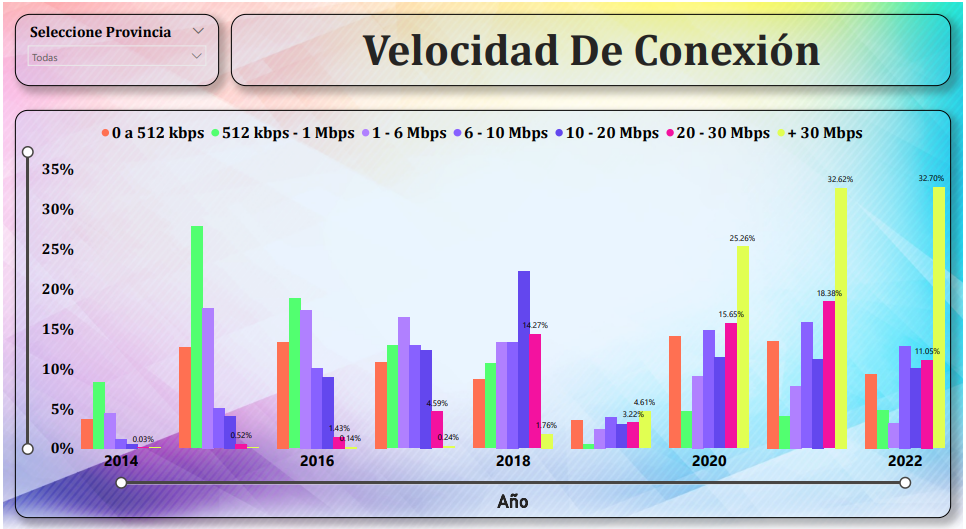

What the dashboard file says about the page in this screenshot:
{"tool":"powerbi","page":{"name":"Velocidad","canvas":[1280,720],"ordinal":4},"visuals":[{"type":"clusteredColumnChart","fields":{"Category":["bd_telecomunicaciones data_velocidad.Año"],"Y":["Sum(bd_telecomunicaciones data_velocidad.0 a 512 kbps)","Sum(bd_telecomunicaciones data_velocidad.512 kbps - 1 mbps)","Sum(bd_telecomunicaciones data_velocidad.1 mbps - 6 mbps)","Sum(bd_telecomunicaciones data_velocidad.6 mbps - 10 mbps)","Sum(bd_telecomunicaciones data_velocidad.10 mbps - 20 mbps)","Sum(bd_telecomunicaciones data_velocidad.20 mbps - 30 mbps)","Sum(bd_telecomunicaciones data_velocidad.+ 30 mbps)"]},"box":[16,144,1248,544],"z":0},{"type":"slicer","fields":{"Values":["bd_telecomunicaciones data_velocidad.Provincia"]},"box":[16,16,272,96],"z":1000},{"type":"textbox","box":[304,16,960,96],"z":2000}]}

Visuals, with their boxes in screenshot pixels (x1, y1, x2, y2), scaled from the page's 1280x720 canvas onto the 966x529 screenshot:
clusteredColumnChart - bd_telecomunicaciones data_velocidad.Año x Sum(bd_telecomunicaciones data_velocidad.0 a 512 kbps): [left=12, top=106, right=954, bottom=505]
slicer - bd_telecomunicaciones data_velocidad.Provincia: [left=12, top=12, right=217, bottom=82]
textbox: [left=229, top=12, right=954, bottom=82]
